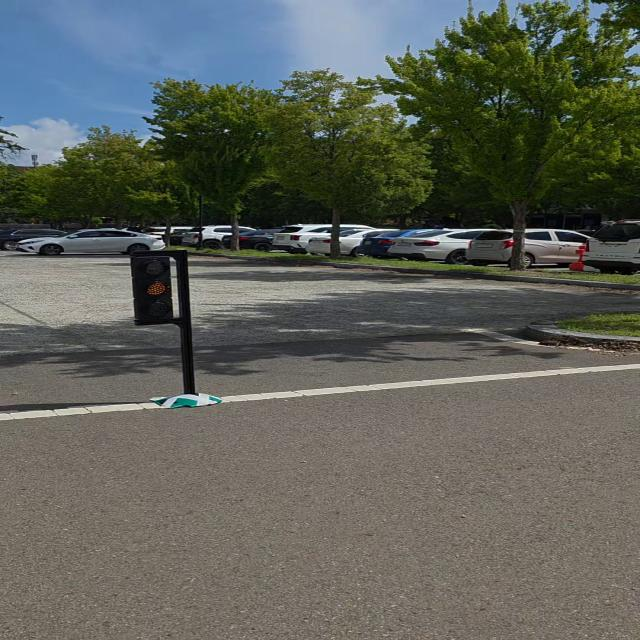yellow: (126, 254, 182, 326)
